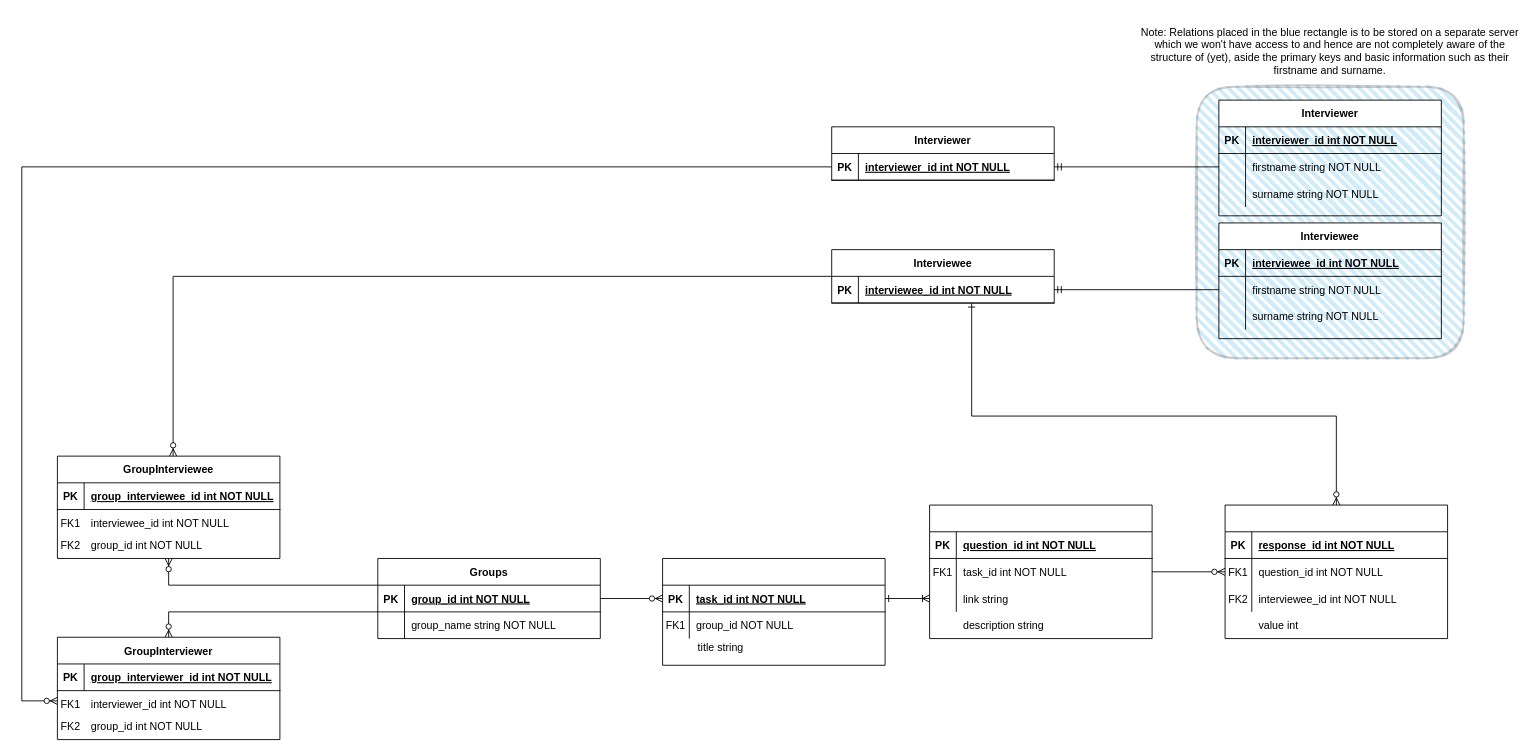
The diagram is 1537 pixels wide and 755 high, and some of its shapes have lost their labels. Here are the shapes that lost their labels. From the top down, the box of each, then its label:
(929, 504, 1152, 639): Questions
(1224, 504, 1448, 639): Responses
(662, 558, 885, 665): Tasks
